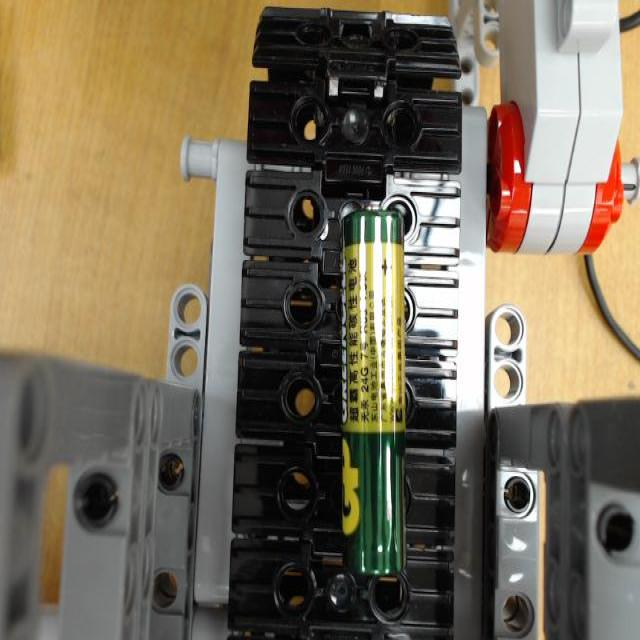AAA: (339, 203, 408, 580)
